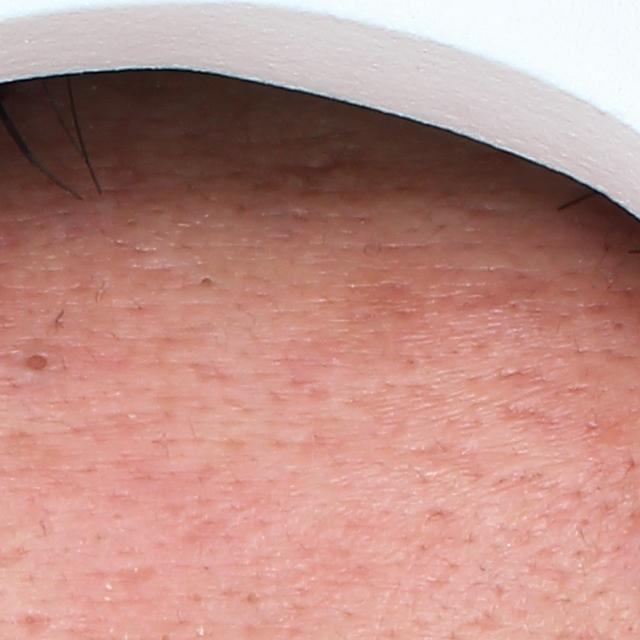atrophic_scar: (10, 607, 50, 636)
comedo: (20, 350, 52, 373), (191, 270, 218, 297)
